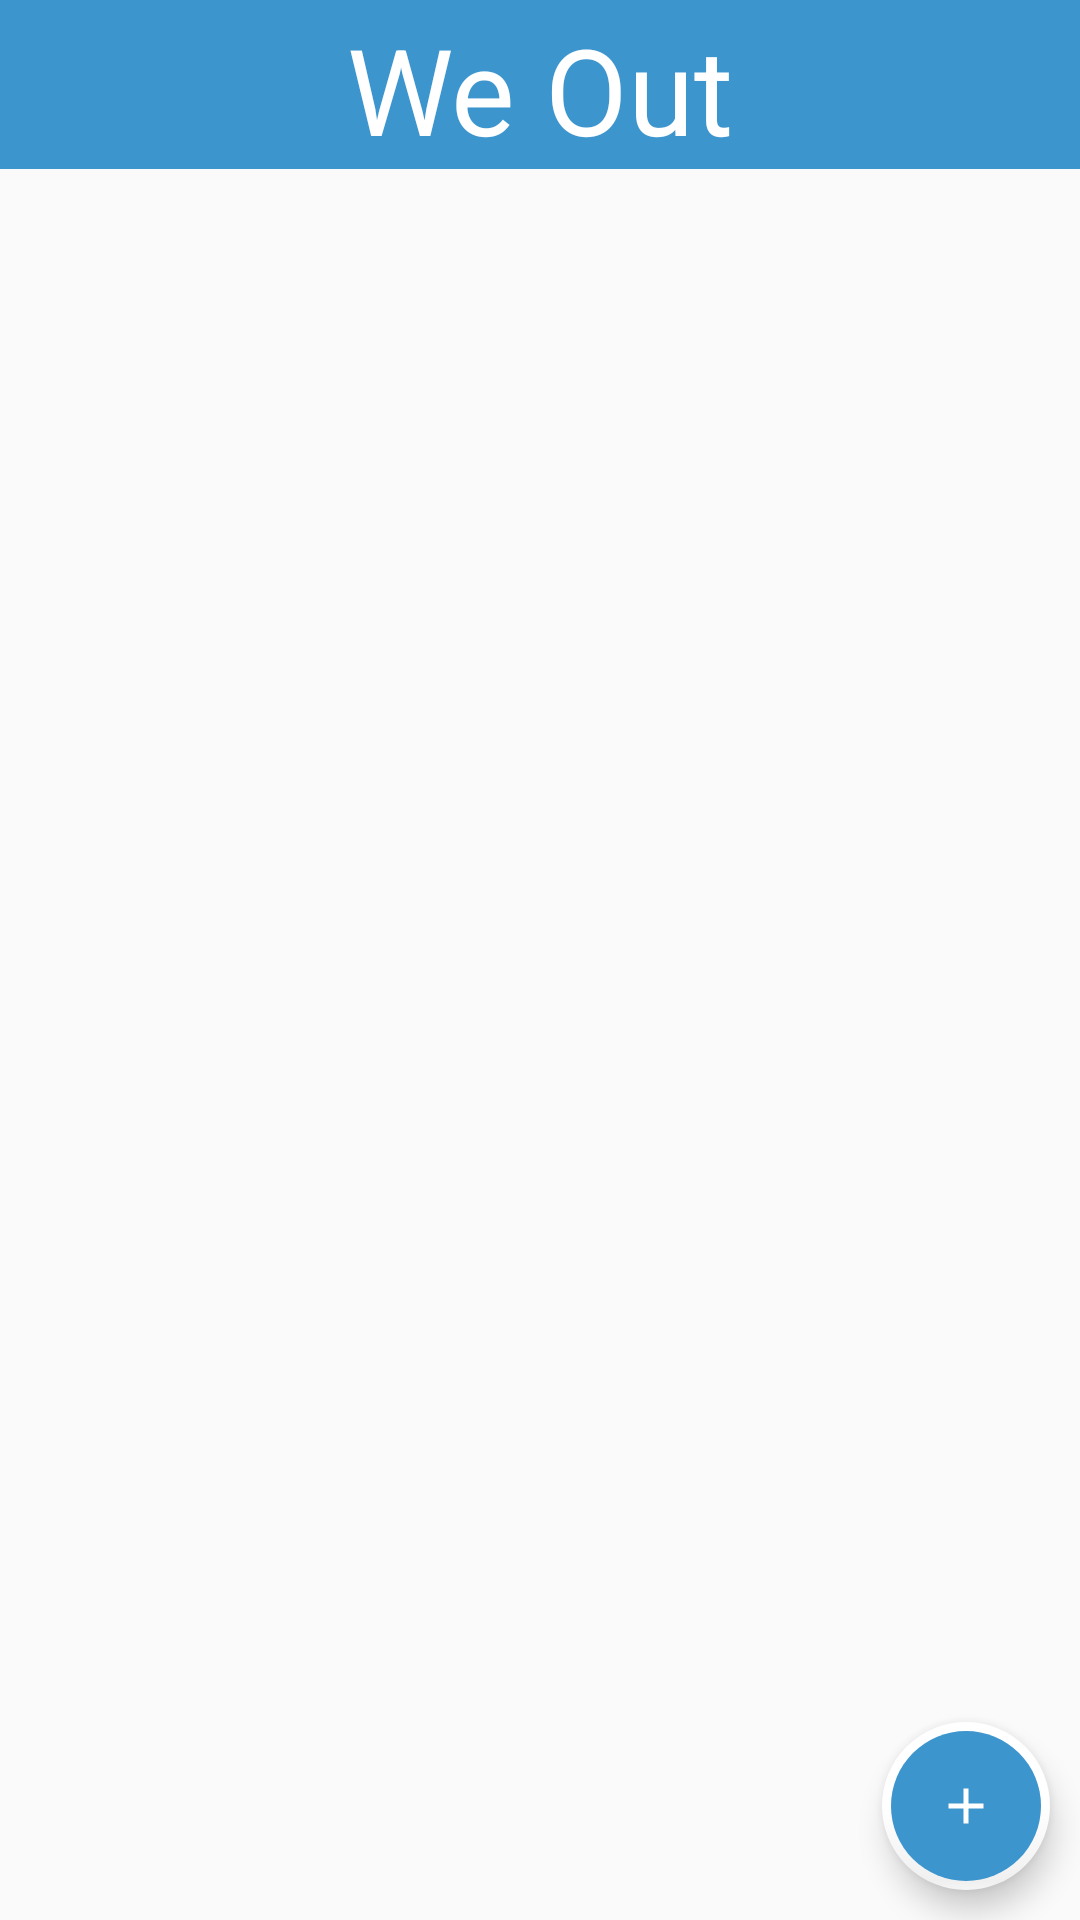

Point at icon controls on the screen. Image size 1080 × 1920, points as (x,y).
plus: (964,1806)
